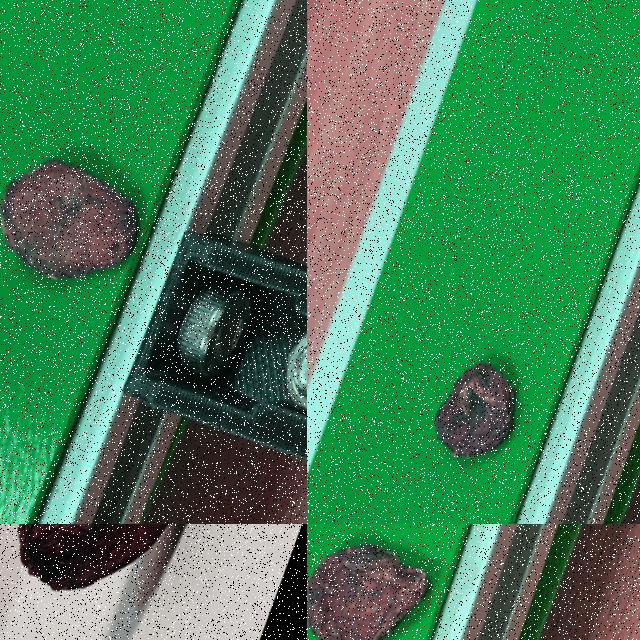Fine_cocoabeans: (0, 524, 306, 639)
Flat_cocoabeans: (0, 80, 204, 376), (376, 270, 596, 523), (307, 524, 516, 639)
